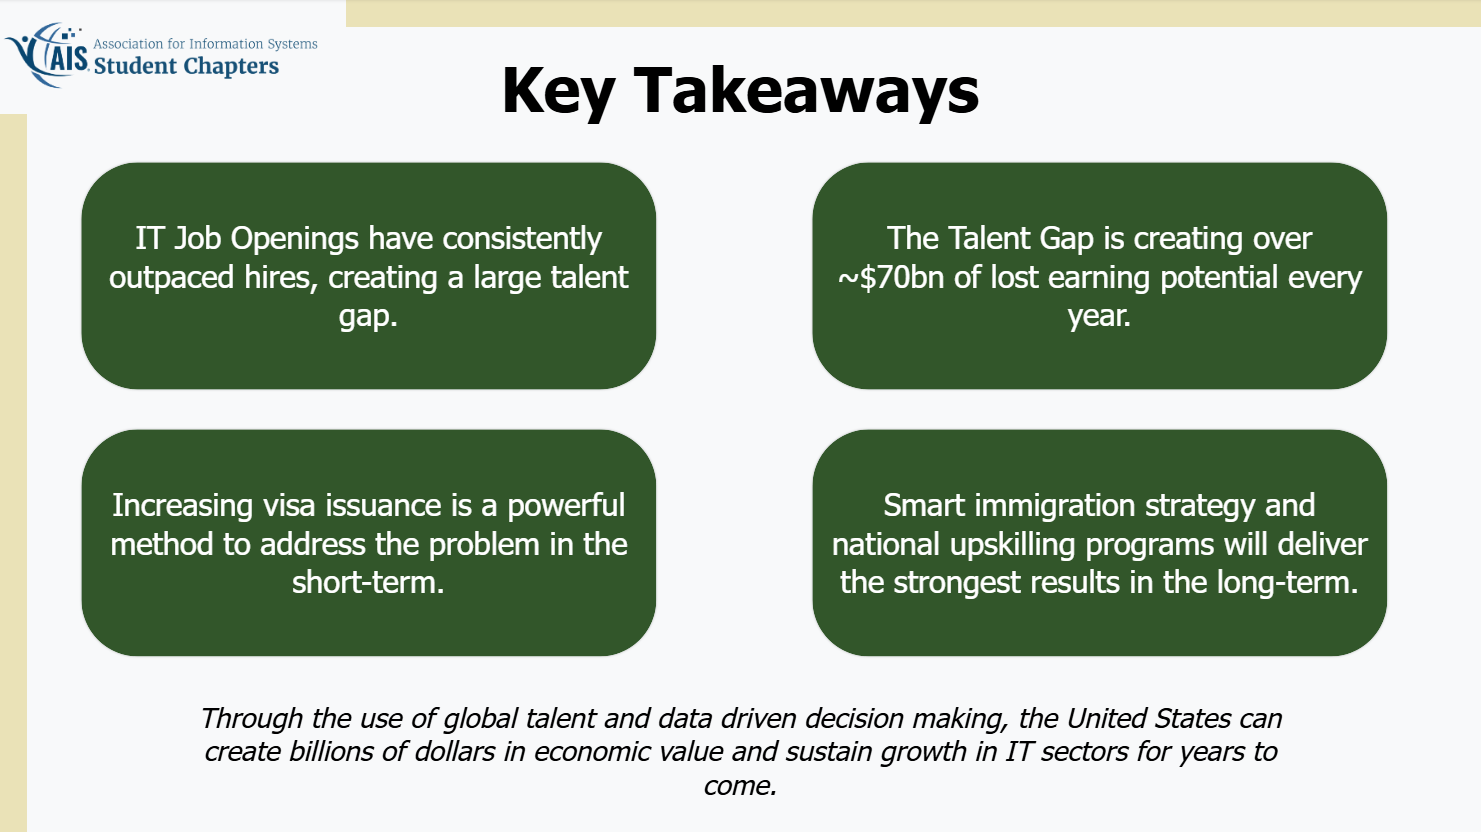

This screenshot's page, from the dashboard's own definition file:
{"tool":"powerbi","page":{"name":"Key Takeaways","canvas":[1280,720],"ordinal":13},"visuals":[{"type":"image","box":[0,0,300,100],"z":0},{"type":"shape","box":[300,0,980,25.5],"z":1000},{"type":"textbox","box":[340,40.9,600,80],"z":2000},{"type":"shape","box":[70,140,500,200],"z":3000},{"type":"shape","box":[700,140,500,200],"z":4000},{"type":"shape","box":[70,370,500,200],"z":5000},{"type":"shape","box":[700,370,500,200],"z":6000},{"type":"shape","box":[0,100,25.5,620],"z":7000},{"type":"textbox","box":[140,600,1000,100],"z":8000}]}

Visuals, with their boxes in screenshot pixels (x1, y1, x2, y2), scaled from the page's 1280x720 canvas onto the 1481x832 screenshot:
image: [left=0, top=0, right=347, bottom=116]
shape: [left=347, top=0, right=1480, bottom=29]
textbox: [left=393, top=47, right=1088, bottom=140]
shape: [left=81, top=162, right=660, bottom=393]
shape: [left=810, top=162, right=1388, bottom=393]
shape: [left=81, top=428, right=660, bottom=659]
shape: [left=810, top=428, right=1388, bottom=659]
shape: [left=0, top=116, right=30, bottom=831]
textbox: [left=162, top=693, right=1319, bottom=809]
